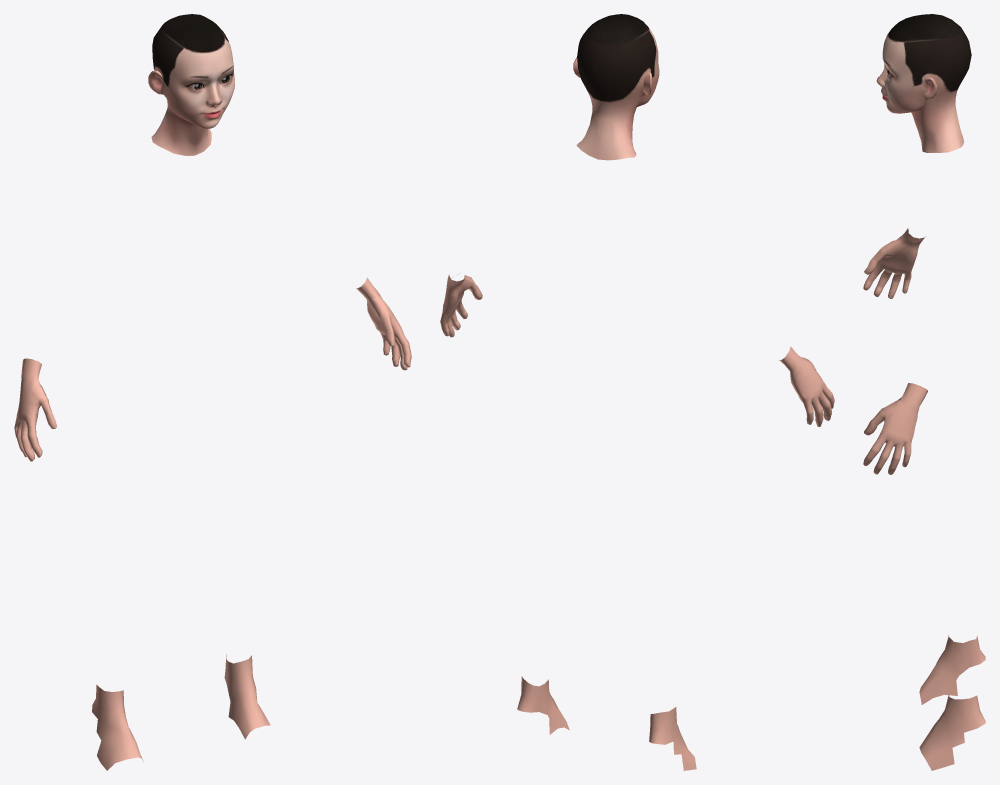
The model's file is femalehead1.glb.
The picture shows the model from 3 angles, left to right: view 1: azimuth 30°, elevation 25°; view 2: azimuth 150°, elevation 25°; view 3: azimuth 270°, elevation 25°; orthographic projection. The views are drawn at different scales.
Parts seen in each view (by area): view 1: Wolf3D_Head, Wolf3D_Body; view 2: Wolf3D_Head, Wolf3D_Body; view 3: Wolf3D_Body, Wolf3D_Head.
Boxes of the visible parts, x1,y1,x2,y2 form: Wolf3D_Head: (148,14,234,155); Wolf3D_Body: (14,277,411,770); Wolf3D_Head: (573,14,659,160); Wolf3D_Body: (440,274,834,770); Wolf3D_Body: (863,228,985,770); Wolf3D_Head: (876,14,971,152).
Size of the model in its own units: 0.9279 by 1.69 by 0.2623.
3 materials, 3 textured.
